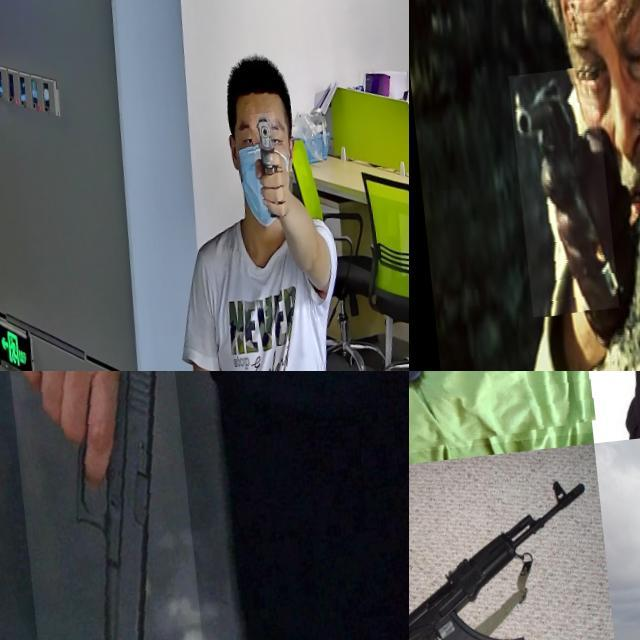gun-knife-thesis - v11 Yolov5 augmented: (0, 371, 197, 640), (409, 482, 596, 640), (409, 371, 586, 525), (501, 71, 607, 320), (244, 122, 276, 228)
